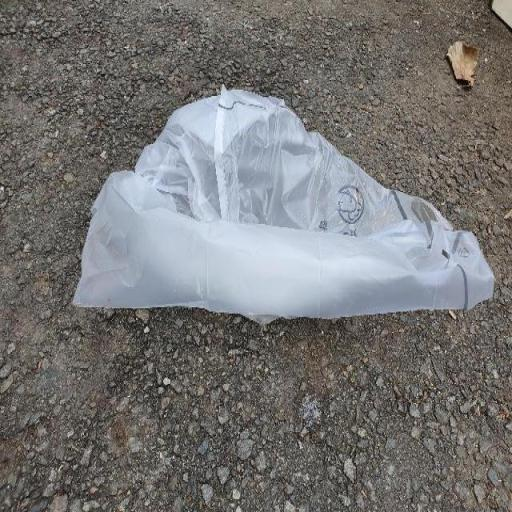plastic-bag: (70, 86, 495, 325)
